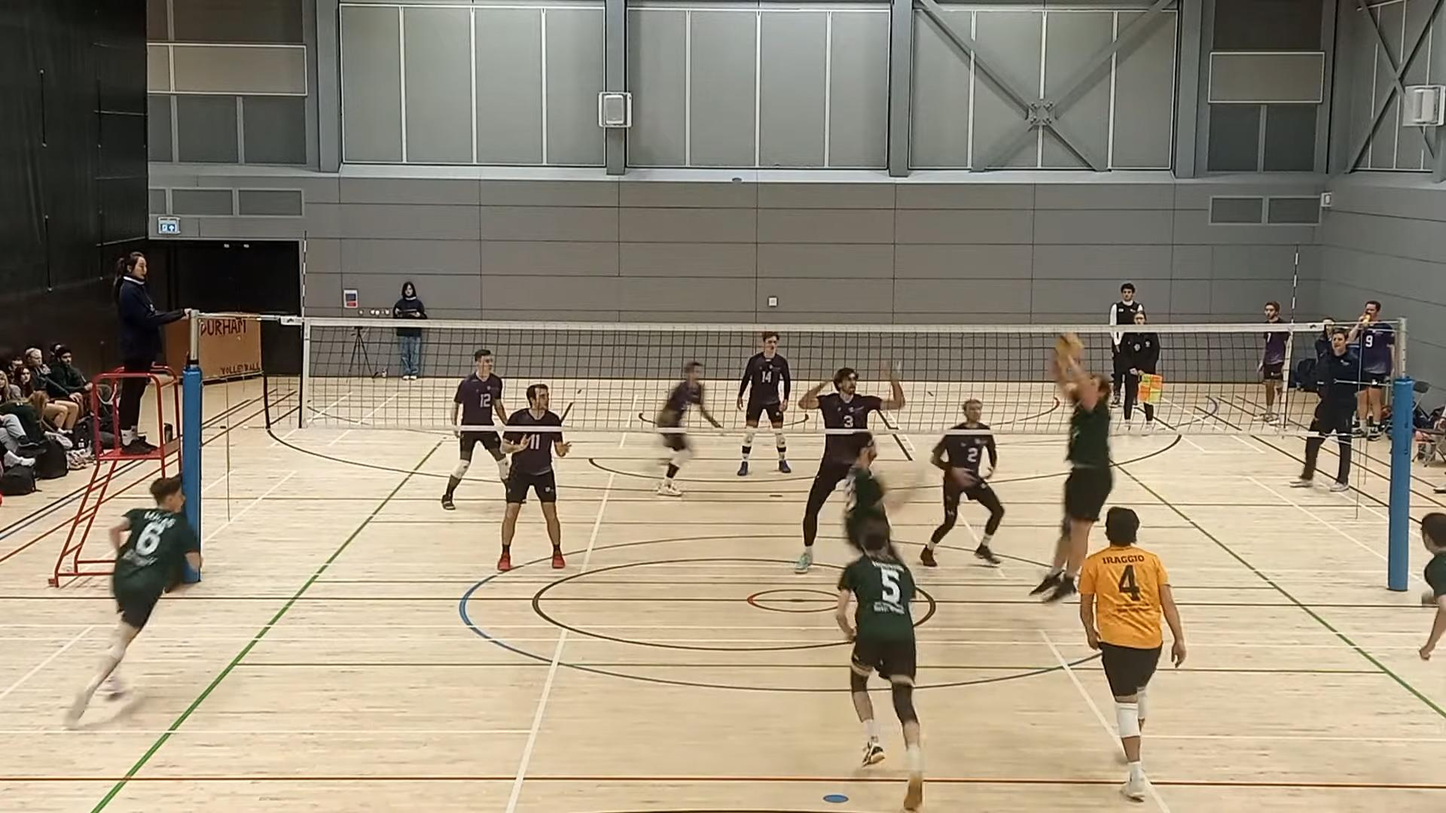Player: (65, 476, 201, 726), (1079, 507, 1185, 801), (835, 522, 923, 810), (795, 367, 905, 572), (921, 398, 1004, 567), (497, 384, 570, 571), (441, 349, 508, 510), (655, 361, 720, 496), (737, 330, 791, 476), (844, 433, 906, 550), (1419, 512, 1445, 659)
Set: (1026, 334, 1114, 609)
ball: (1052, 330, 1087, 364)
